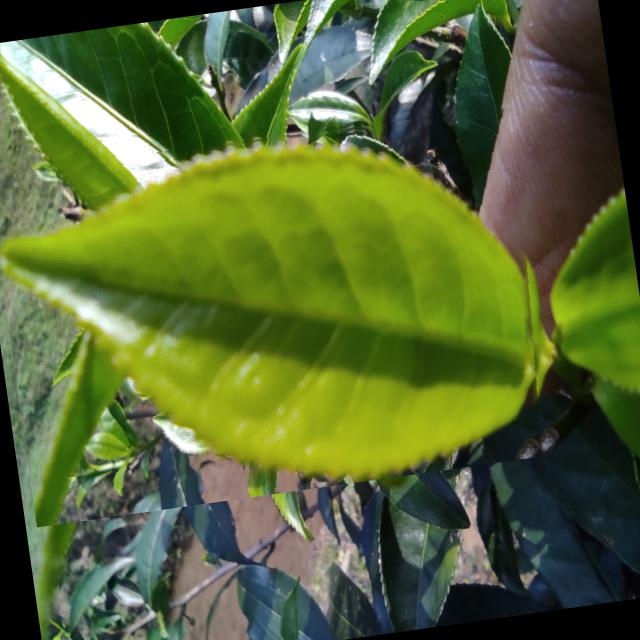Category B 2-4 days: (0, 98, 563, 526)
